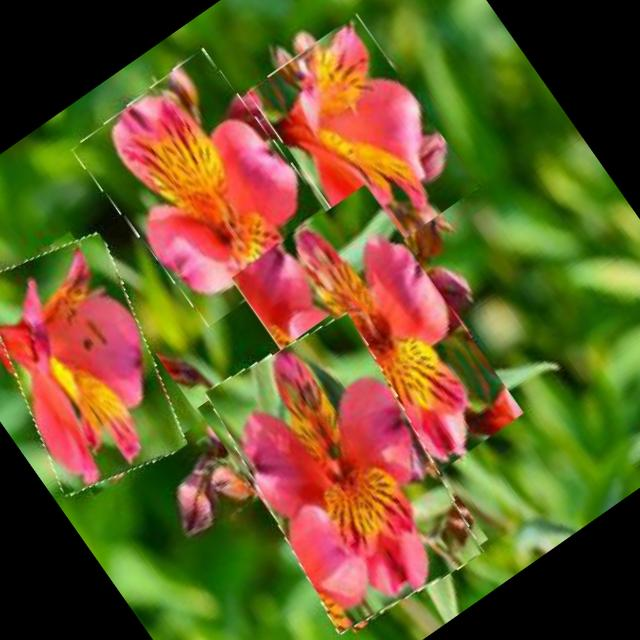Flower: (189, 305, 498, 640), (231, 184, 526, 508), (71, 45, 341, 330), (0, 218, 217, 507), (246, 12, 480, 265)
